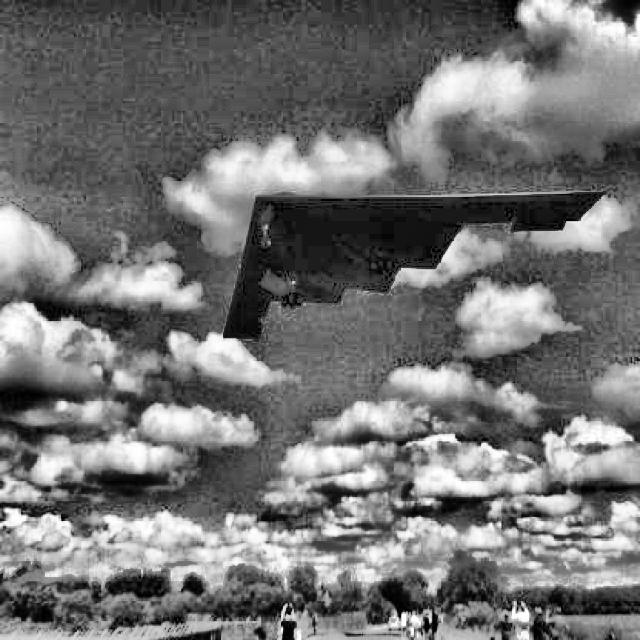B2: (222, 192, 606, 342)
